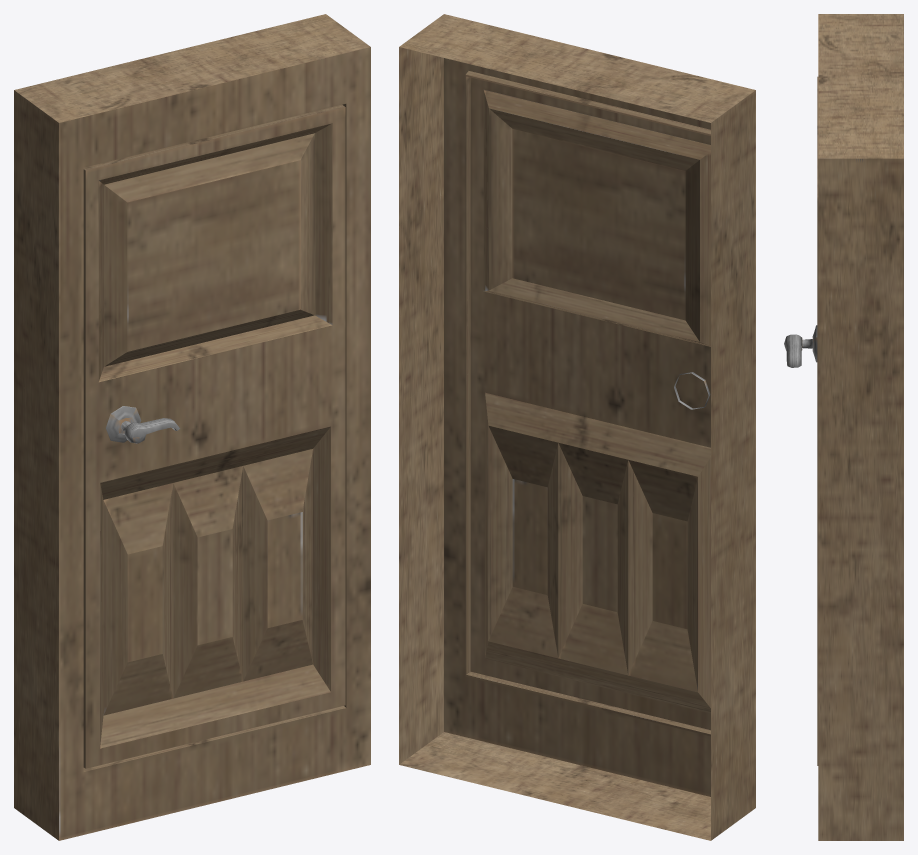
File: Door.glb
3 renders of one model, left to right at view 1: azimuth 30°, elevation 25°; view 2: azimuth 150°, elevation 25°; view 3: azimuth 270°, elevation 25°, orthographic. The views are drawn at different scales.
Parts seen in each view (by area): view 1: door; view 2: door; view 3: door.
Boxes of the visible parts, x1,y1,x2,y2 form: door: (14, 14, 370, 840); door: (399, 14, 755, 840); door: (784, 14, 903, 840).
Bounding box in the file's own units: 1.2 × 2.64 × 0.4206.
1 material, 1 textured.
